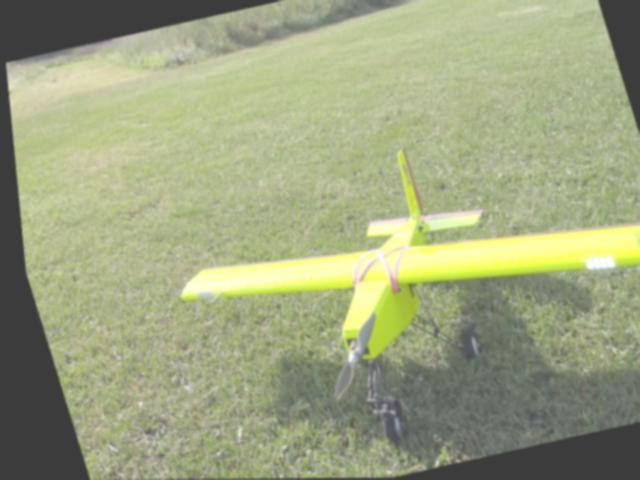plane: (138, 101, 640, 475)
